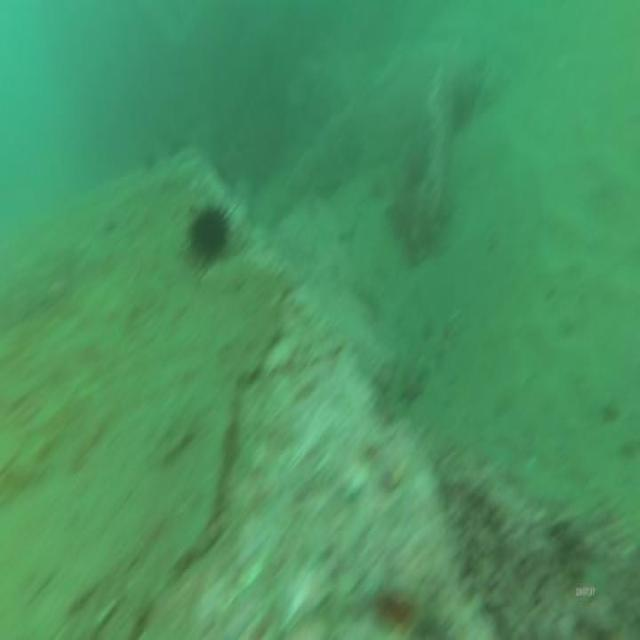echinus: (190, 204, 228, 267)
